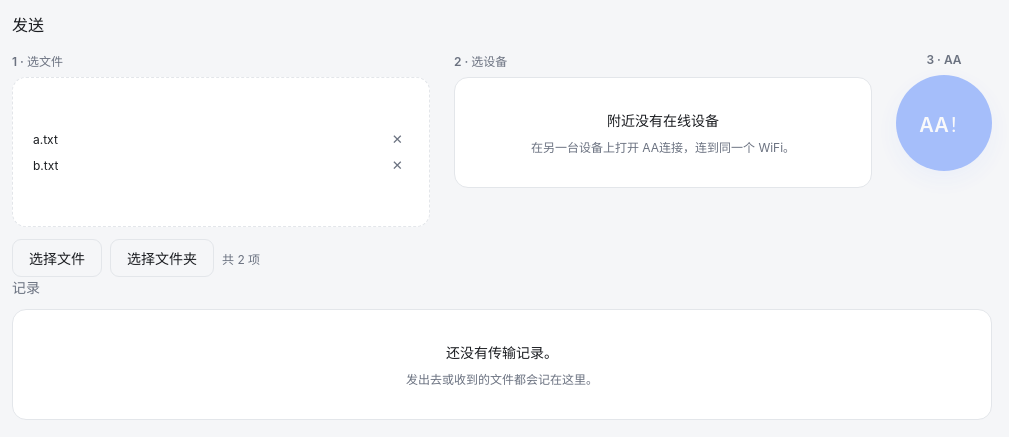
Test: SendPage › 点击移除按钮后文件从列表中消失
Click the button "✕" in the row of "a.txt" at (397, 139), box x1=386 y1=130 x2=409 y2=148
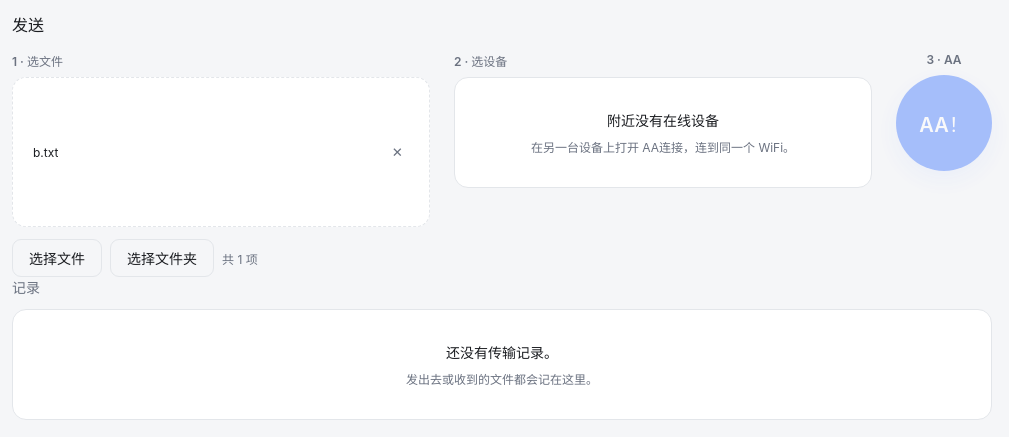
Check: the number of list items is 1, box x1=29 y1=139 x2=413 y2=165
